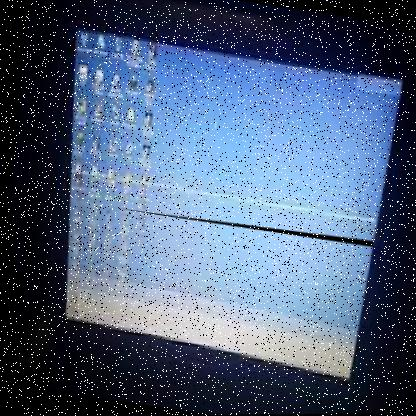lines: (62, 157, 377, 250)
